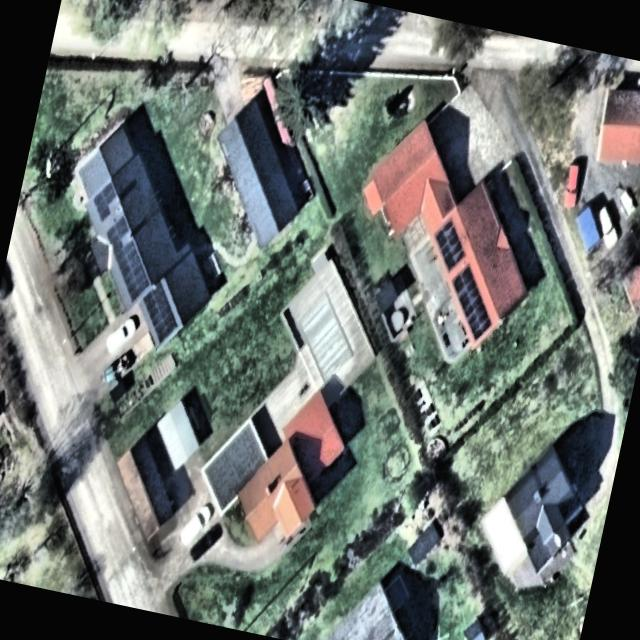roof_pv: (440, 259, 504, 344), (133, 276, 188, 351), (104, 234, 158, 304), (427, 212, 472, 276), (86, 176, 120, 224), (104, 214, 130, 252)
